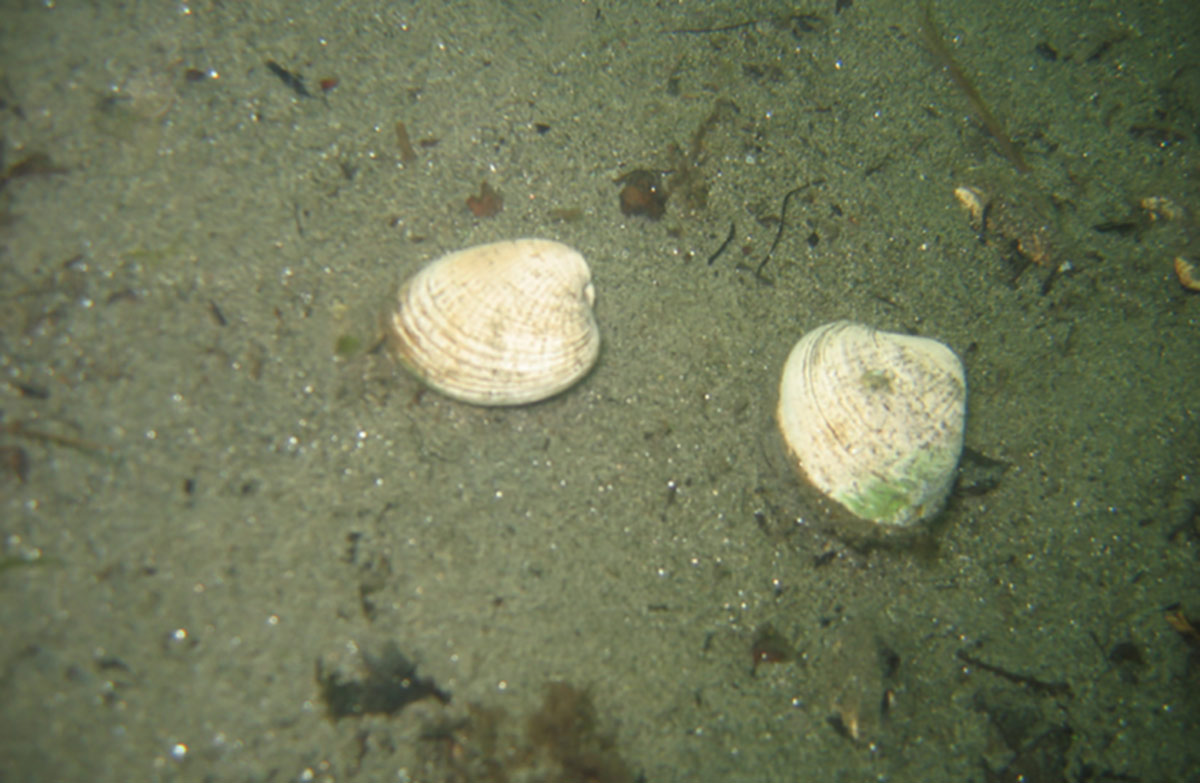cockle: (772, 318, 971, 537), (377, 231, 609, 407)
